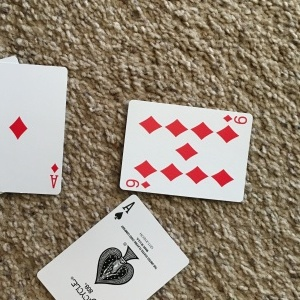card: (118, 98, 254, 202)
